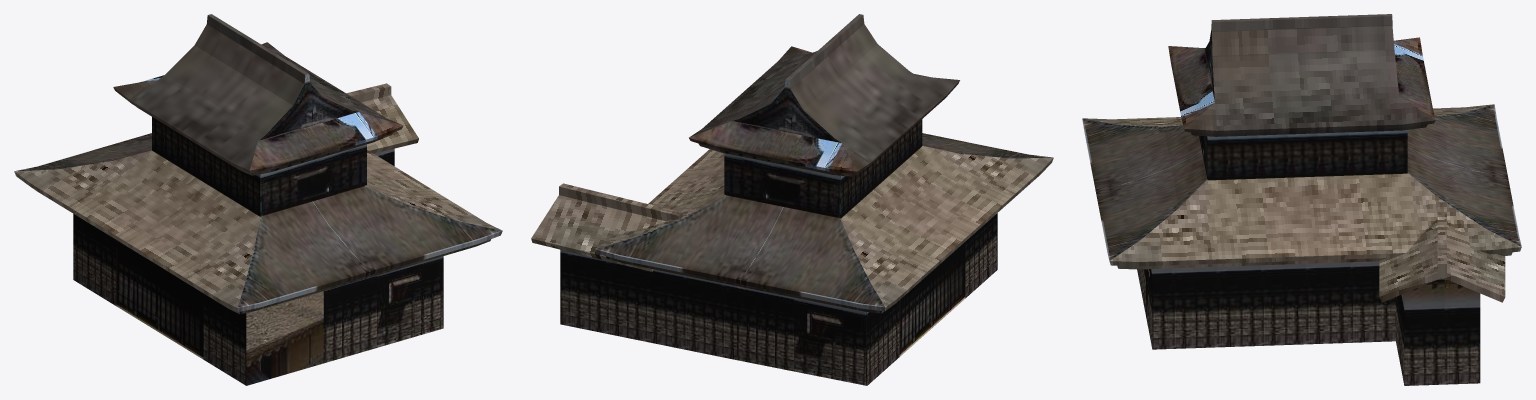
File: asuketoride.glb
The picture shows the model from 3 angles, left to right: view 1: azimuth 30°, elevation 25°; view 2: azimuth 150°, elevation 25°; view 3: azimuth 270°, elevation 25°; orthographic projection. The views are drawn at different scales.
Parts seen in each view (by area): view 1: SketchUp.017, SketchUp.026, SketchUp.015, SketchUp.006, SketchUp.001, SketchUp.002, SketchUp.011, SketchUp.007, SketchUp.016; view 2: SketchUp.017, SketchUp.026, SketchUp.005, SketchUp.010, SketchUp.016, SketchUp.003, SketchUp.006, SketchUp.002, SketchUp.007, SketchUp.011; view 3: SketchUp.017, SketchUp.026, SketchUp.005, SketchUp.008, SketchUp.016, SketchUp.015.
Part boxes in pixels (x1=…): SketchUp.017: x1=14, y1=133, x2=502, y2=314; SketchUp.026: x1=113, y1=14, x2=403, y2=175; SketchUp.015: x1=246, y1=256, x2=443, y2=385; SketchUp.006: x1=116, y1=240, x2=203, y2=358; SketchUp.001: x1=260, y1=144, x2=366, y2=216; SketchUp.002: x1=152, y1=117, x2=260, y2=216; SketchUp.011: x1=203, y1=293, x2=246, y2=385; SketchUp.007: x1=73, y1=214, x2=116, y2=305; SketchUp.016: x1=346, y1=83, x2=418, y2=153; SketchUp.017: x1=595, y1=133, x2=1053, y2=313; SketchUp.026: x1=689, y1=14, x2=959, y2=176; SketchUp.005: x1=560, y1=249, x2=736, y2=359; SketchUp.010: x1=737, y1=286, x2=867, y2=385; SketchUp.016: x1=531, y1=183, x2=682, y2=271; SketchUp.003: x1=724, y1=153, x2=840, y2=218; SketchUp.006: x1=899, y1=242, x2=965, y2=356; SketchUp.002: x1=841, y1=119, x2=922, y2=218; SketchUp.007: x1=867, y1=300, x2=899, y2=385; SketchUp.011: x1=965, y1=213, x2=997, y2=298; SketchUp.017: x1=1082, y1=104, x2=1521, y2=269; SketchUp.026: x1=1168, y1=14, x2=1435, y2=136; SketchUp.005: x1=1152, y1=261, x2=1480, y2=385; SketchUp.008: x1=1207, y1=130, x2=1407, y2=180; SketchUp.016: x1=1379, y1=202, x2=1505, y2=302; SketchUp.015: x1=1137, y1=269, x2=1152, y2=348.
Bounding box in the file's own units: 11.15 × 7.92 × 11.53.
24 materials, 23 textured.
